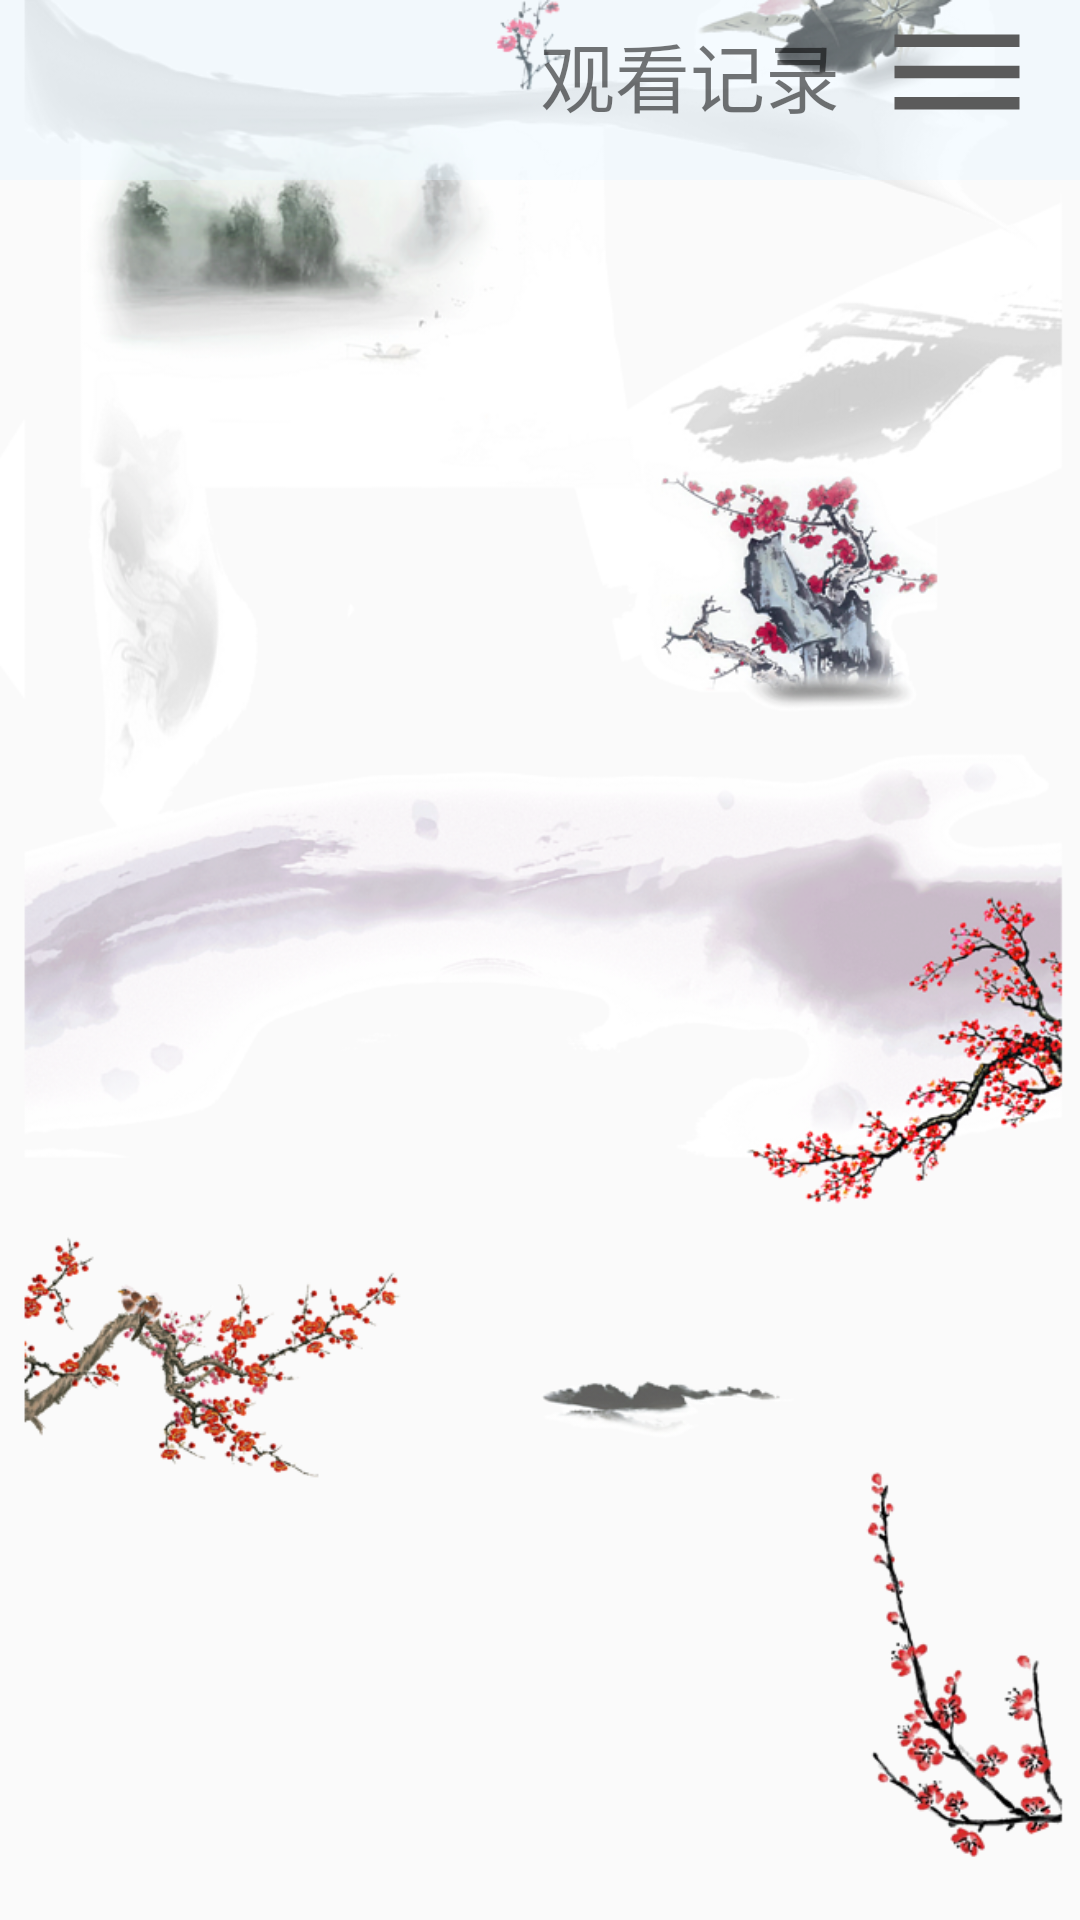

Icons on this 1080px x 1920px Android screen, each with its box as [x1, y1, x2, y2]:
menu: [882, 0, 1020, 110]
